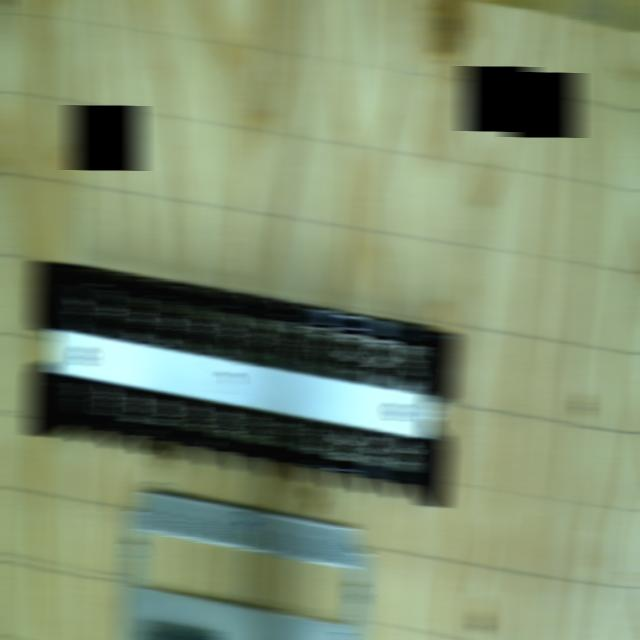Phillips_Block: (4, 261, 475, 506)
